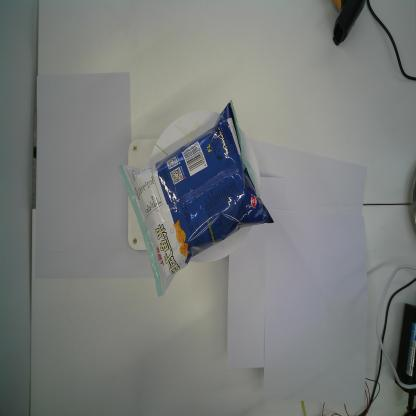Puffed Food: (118, 99, 274, 297)
